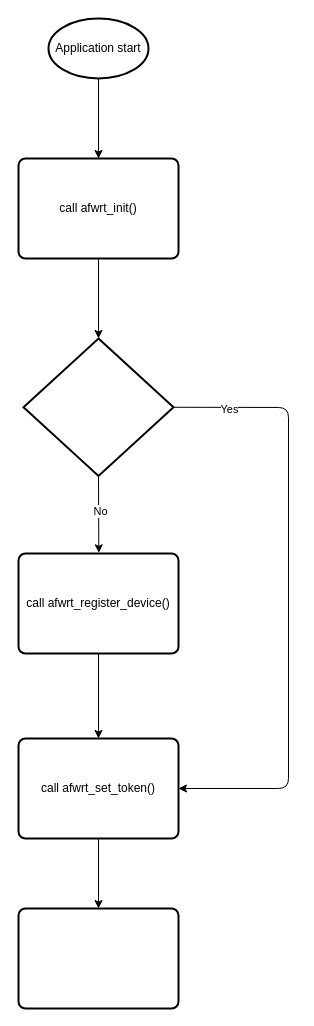
This 314x1026 diagram has some shape labels left out. The centre of each missing label's shape, as x and y in pixels:
"call afwrt_start()" belongs at (98,958).
"Do you have a saved token?" belongs at (98,406).
